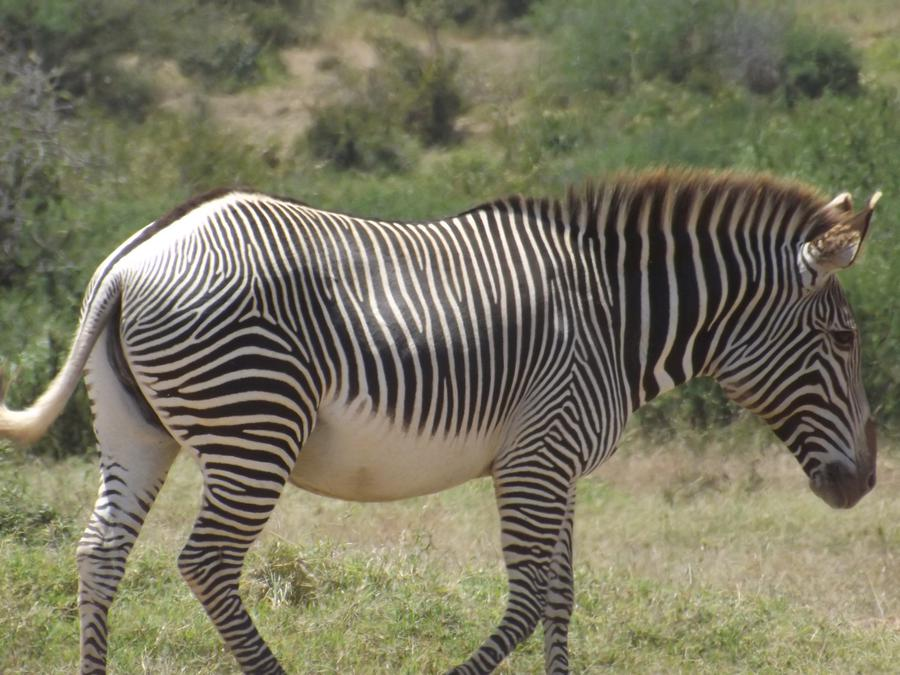zebra_grevys: (88, 180, 594, 483)
